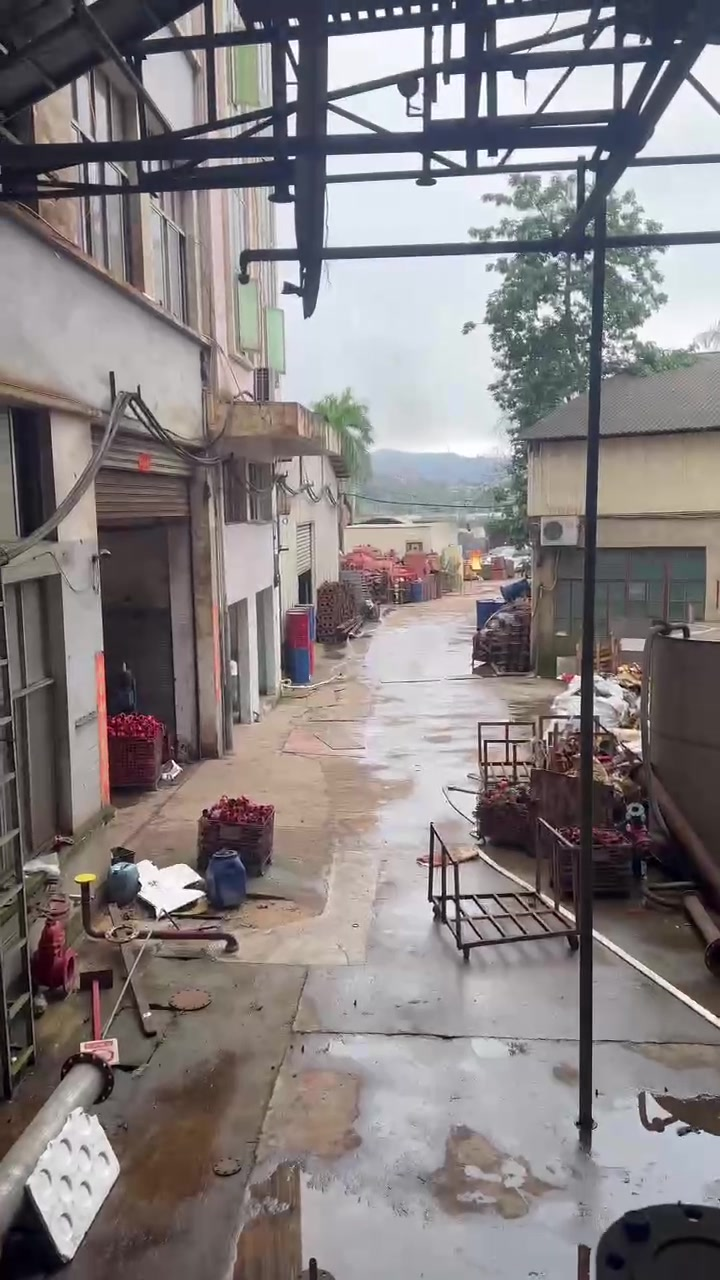fire: (471, 550, 482, 569)
